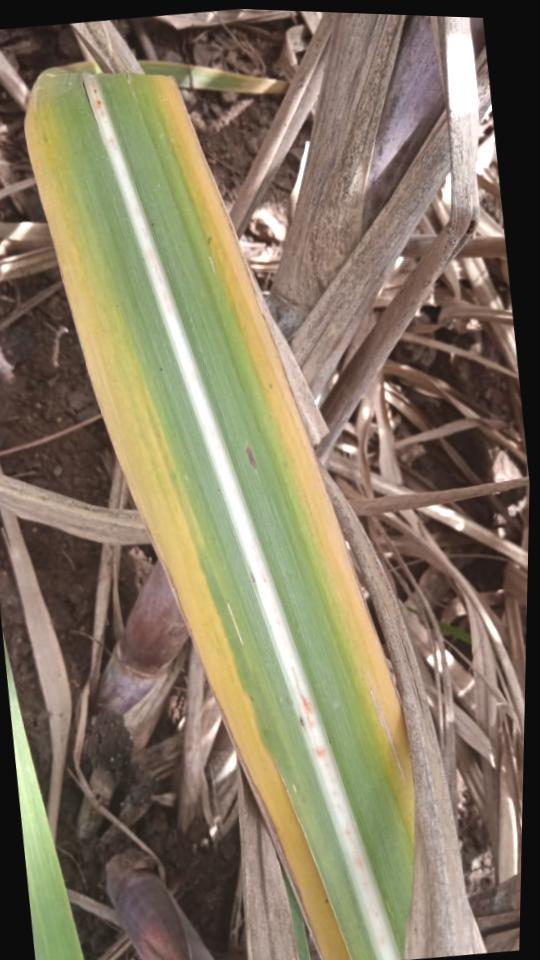RedRot: (291, 667, 315, 731), (316, 746, 327, 758), (96, 99, 102, 111), (92, 88, 98, 95)
Rust: (246, 445, 257, 470), (299, 716, 305, 728), (268, 384, 274, 390), (115, 304, 120, 310), (159, 367, 163, 373), (151, 222, 155, 227)
Yellow: (25, 98, 351, 960), (155, 72, 414, 836)
